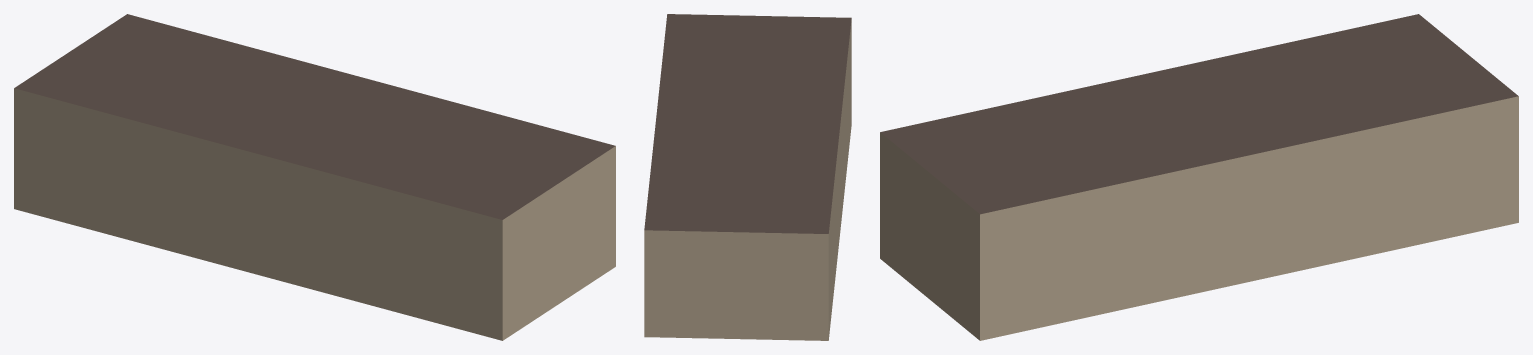
The picture shows the model from 3 angles, left to right: view 1: azimuth 30°, elevation 25°; view 2: azimuth 150°, elevation 25°; view 3: azimuth 270°, elevation 25°; orthographic projection. The views are drawn at different scales.
Visible parts, largest first — view 1: HP-w859447927; view 2: HP-w859447927; view 3: HP-w859447927.
Part boxes in pixels (x1,y1,x2,y2): HP-w859447927: [14, 14, 615, 340]; HP-w859447927: [644, 14, 851, 340]; HP-w859447927: [880, 14, 1518, 340].
Size of the model in its own units: 30.56 by 9 by 41.16.
